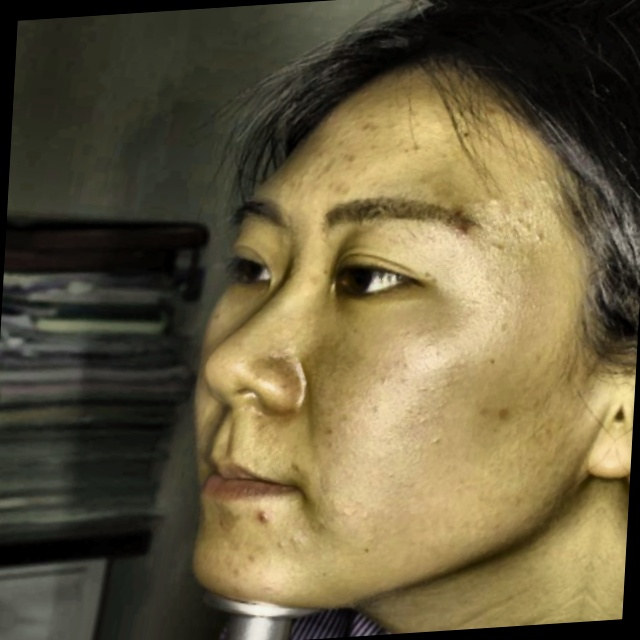comedone: (450, 209, 479, 252), (247, 502, 273, 531)
